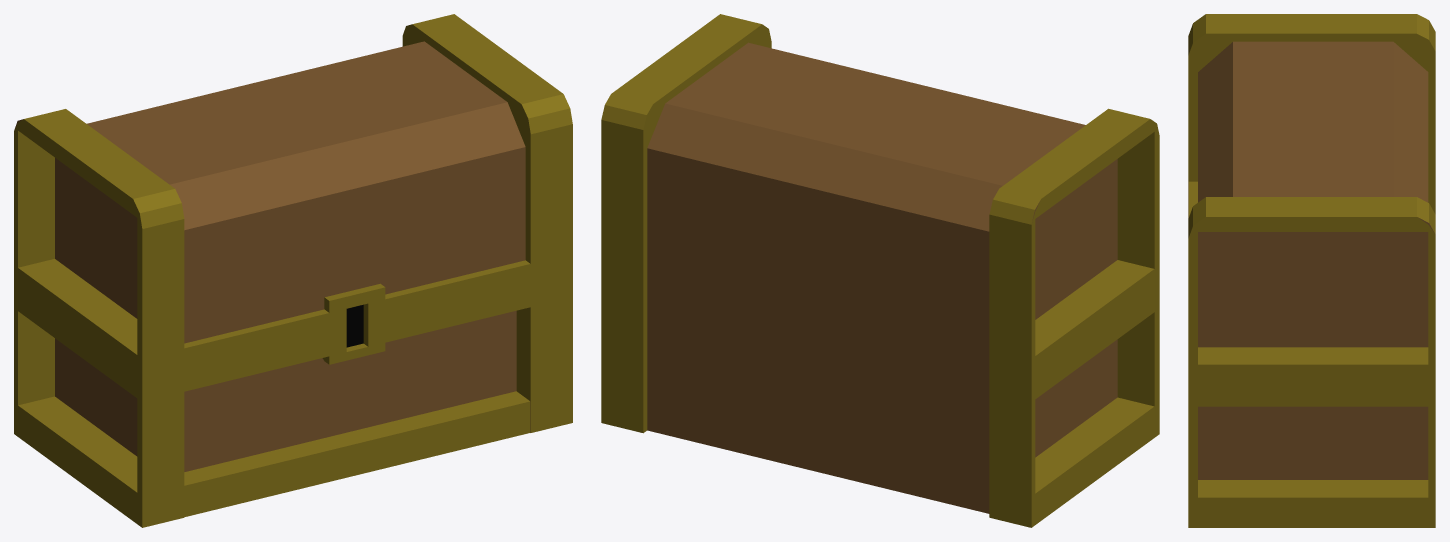
File: Chest 1.fbx
3 renders of one model, left to right at view 1: azimuth 30°, elevation 25°; view 2: azimuth 150°, elevation 25°; view 3: azimuth 270°, elevation 25°, orthographic. The views are drawn at different scales.
Parts seen in each view (by area): view 1: Cube; view 2: Cube; view 3: Cube.
Boxes of the visible parts, x1=… form: Cube: x1=14, y1=14, x2=572, y2=527; Cube: x1=601, y1=14, x2=1159, y2=527; Cube: x1=1188, y1=14, x2=1435, y2=527.
Bounding box in the file's own units: 294 × 210 × 151.
